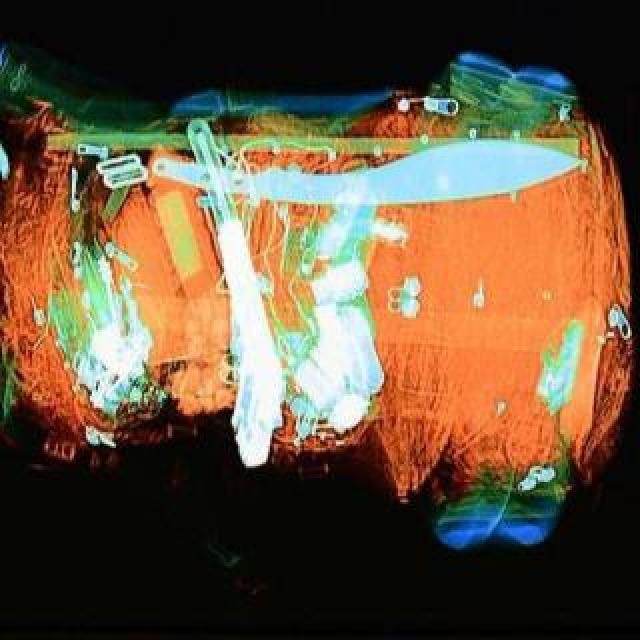gun: (186, 114, 286, 466)
